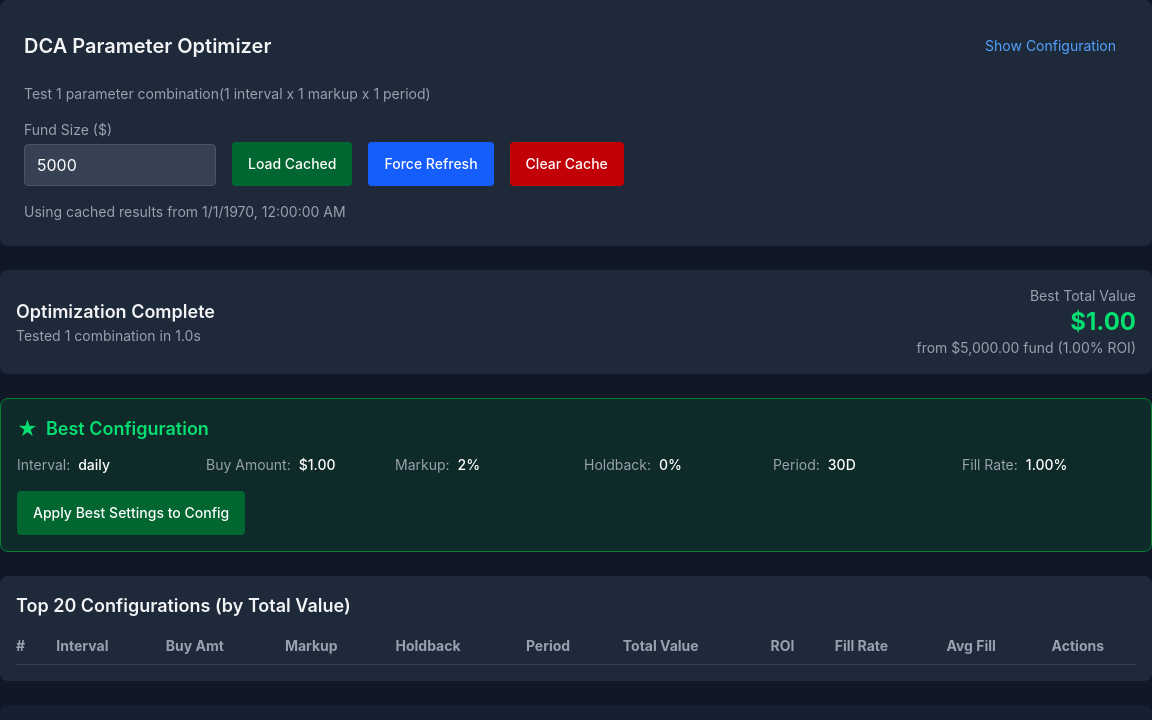
optimizer keeps results and shows the error when clearing the cache fails
Click the button "Clear Cache".
click(567, 164)  # box [510,142,624,186]
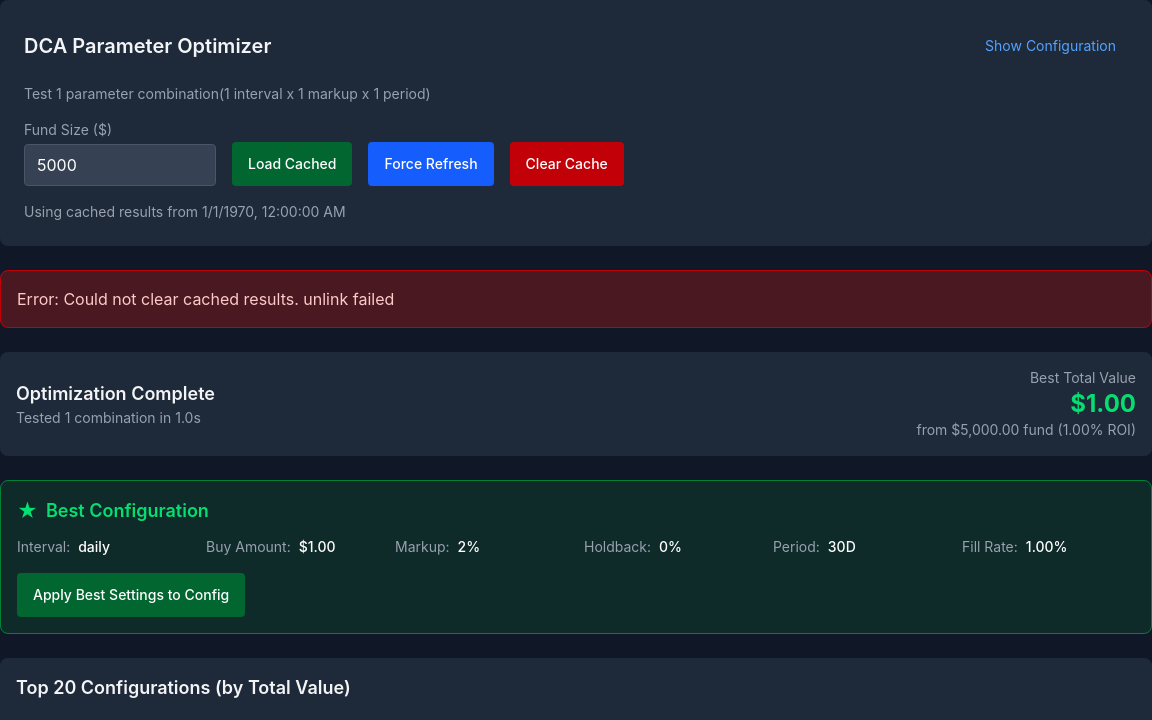
Expected: the text "Error: Could not clear cached results. unlink failed" is shown, [0,270,1151,328]
